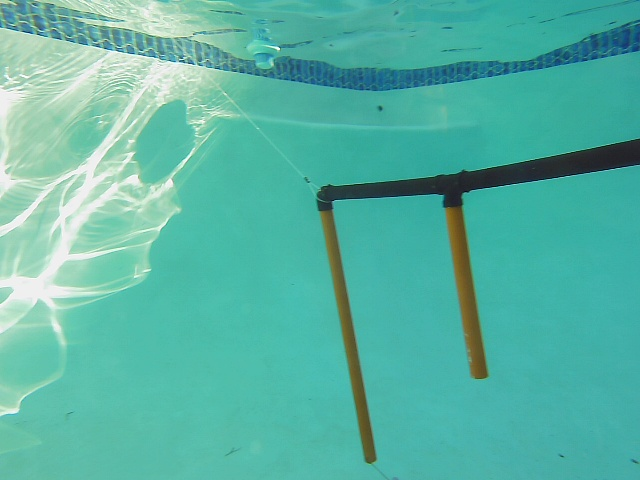Gate: (312, 203, 380, 465), (440, 199, 492, 383)
